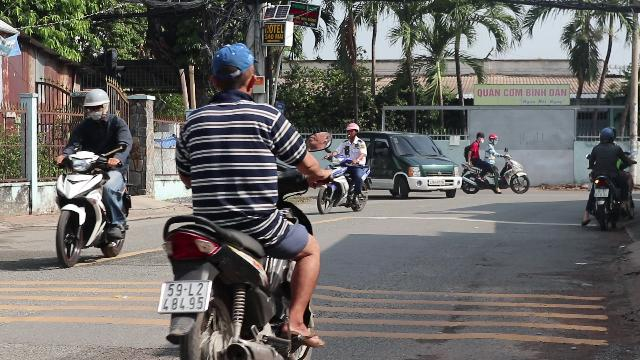helmet: (80, 88, 110, 120), (344, 122, 358, 138), (598, 128, 614, 142)
licenseplate: (158, 280, 210, 312), (594, 189, 608, 197)
motorcyclist: (150, 41, 332, 358), (48, 86, 136, 266), (582, 127, 634, 229), (316, 122, 369, 214)
nohelmet: (208, 43, 258, 97)
